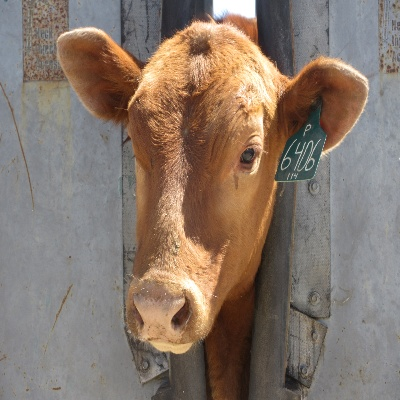fidget_spinner: (121, 281, 193, 350)
